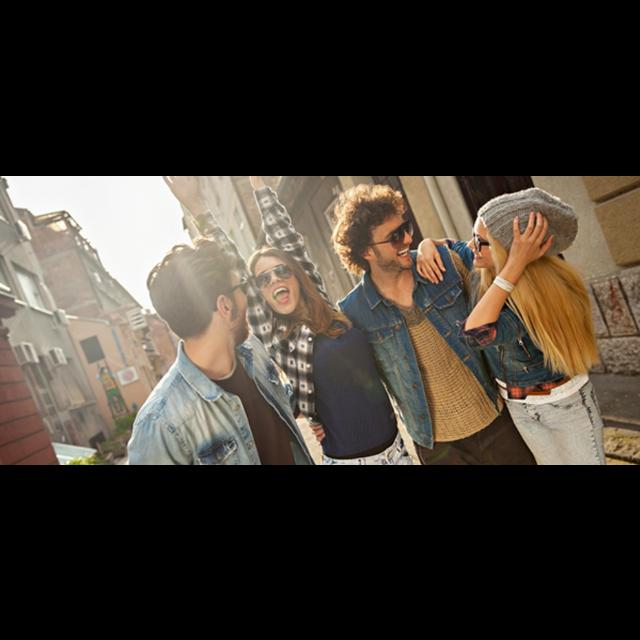head: (150, 247, 252, 347), (344, 195, 418, 272), (469, 192, 539, 272), (252, 247, 304, 317)
